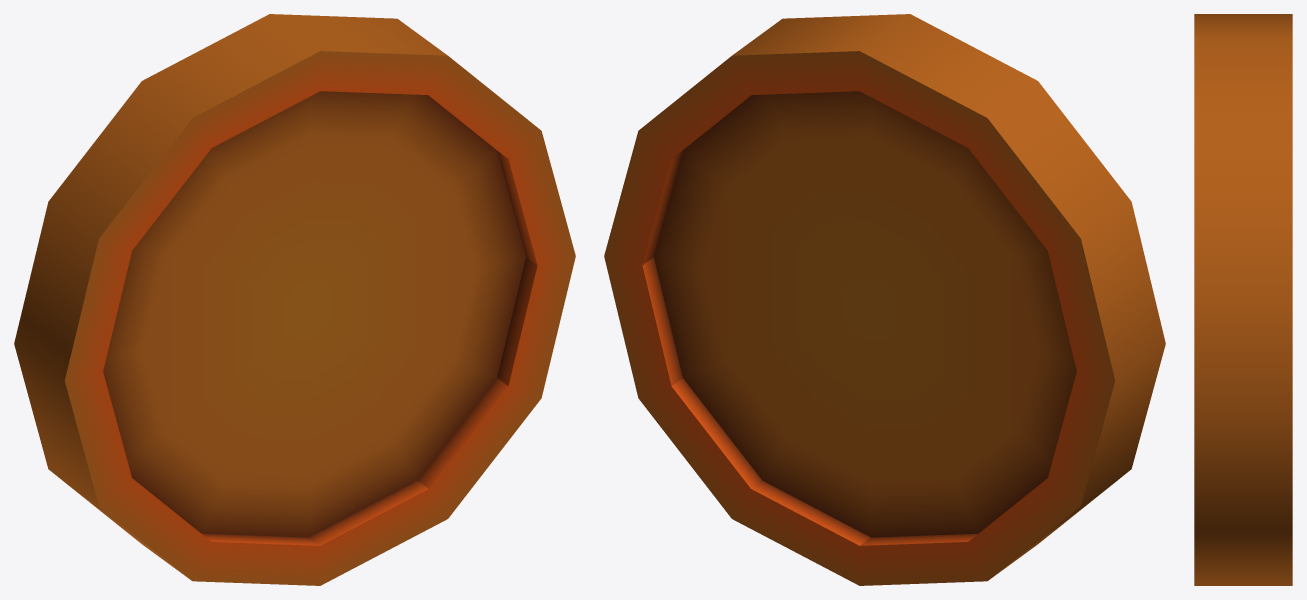
File: Coin_1_v2.1.fbx
The picture shows the model from 3 angles, left to right: view 1: azimuth 30°, elevation 25°; view 2: azimuth 150°, elevation 25°; view 3: azimuth 270°, elevation 25°; orthographic projection. The views are drawn at different scales.
Visible parts, largest first — view 1: Coin_1_v2; view 2: Coin_1_v2; view 3: Coin_1_v2.
Boxes of the visible parts, <box> form: Coin_1_v2: <box>14,14,575,585</box>; Coin_1_v2: <box>604,14,1165,585</box>; Coin_1_v2: <box>1194,14,1292,585</box>.
Bounding box in the file's own units: 50 × 50 × 8.58.
